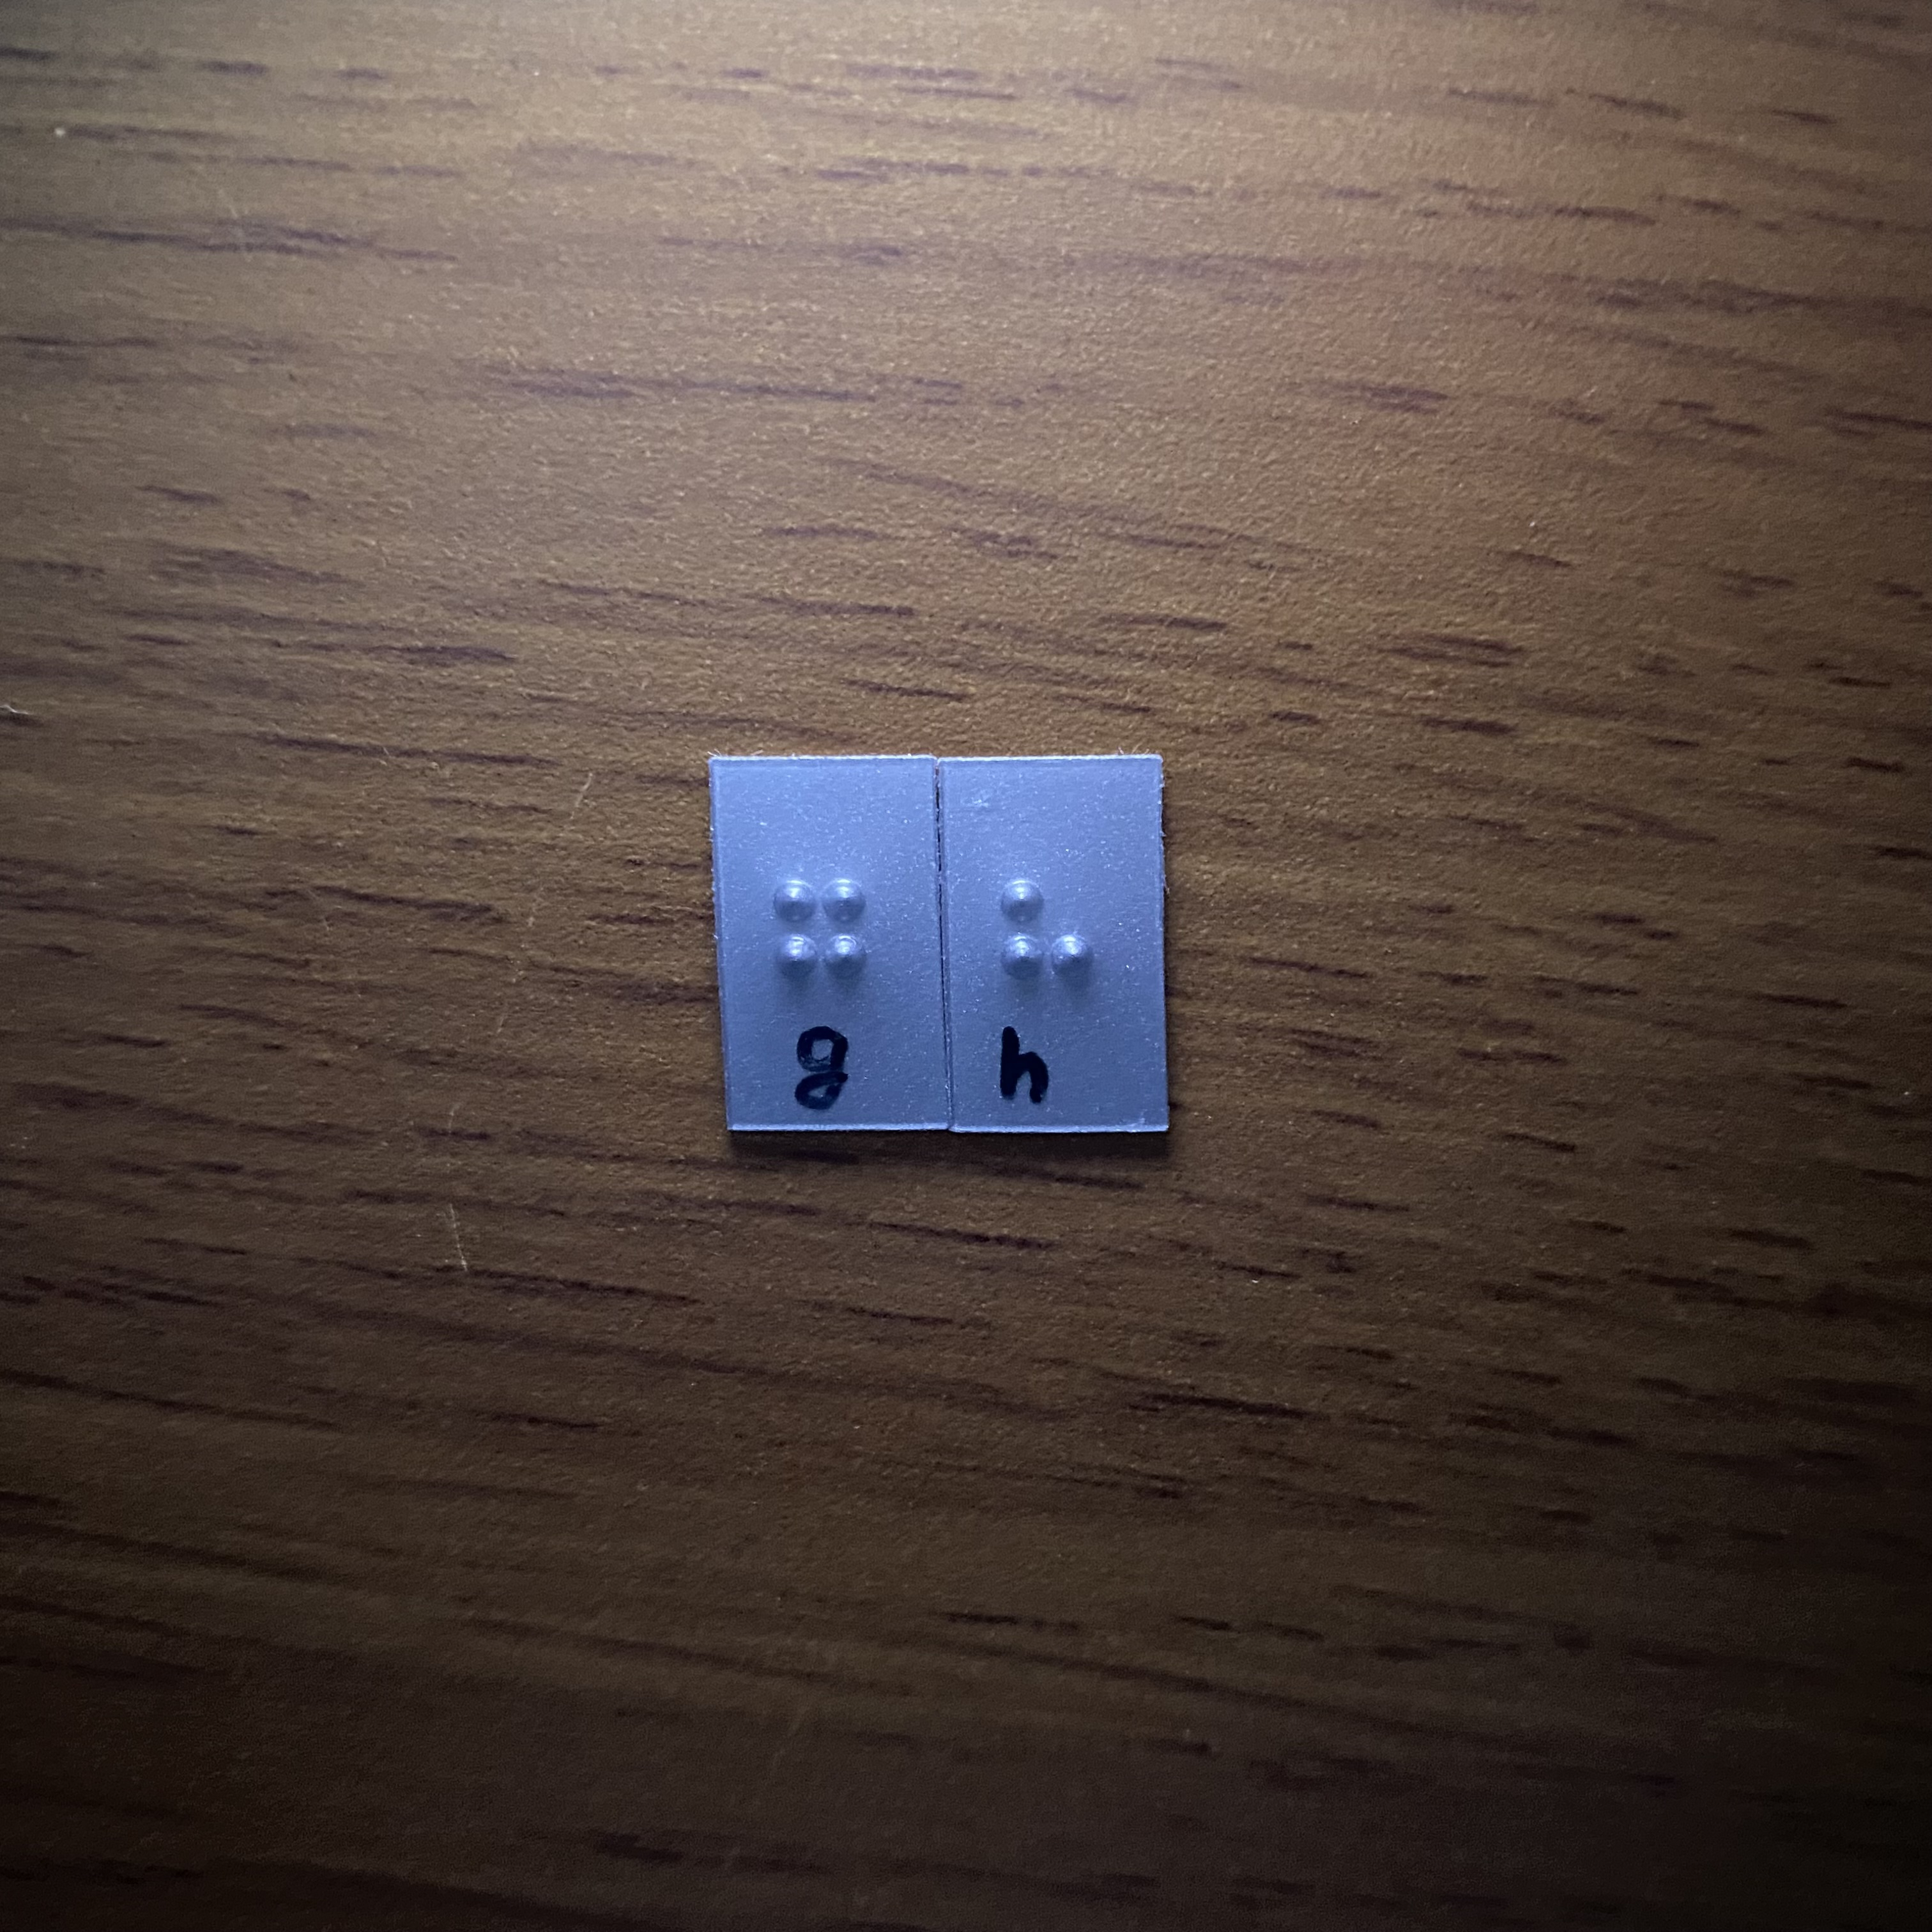g: (752, 863, 882, 1035)
h: (981, 857, 1108, 1059)
